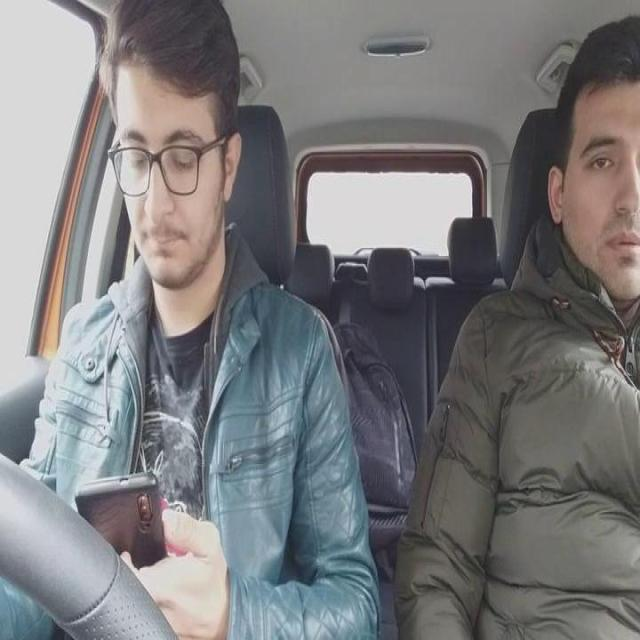phone: (74, 469, 170, 572)
